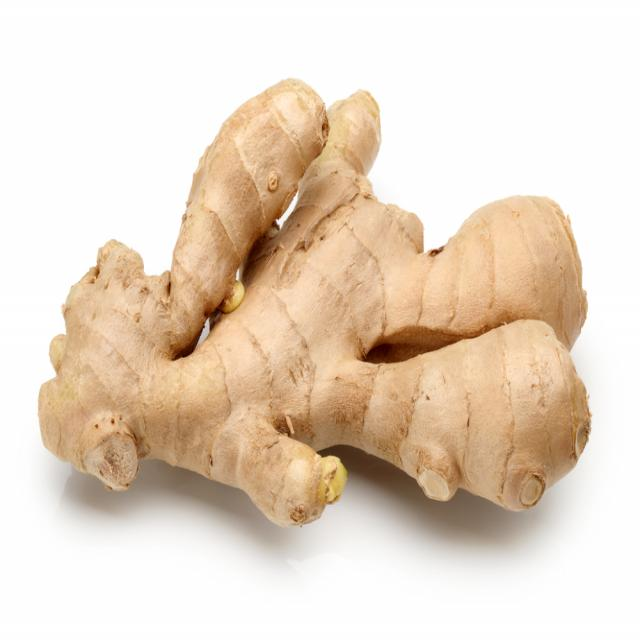ginger: (33, 69, 598, 529)
